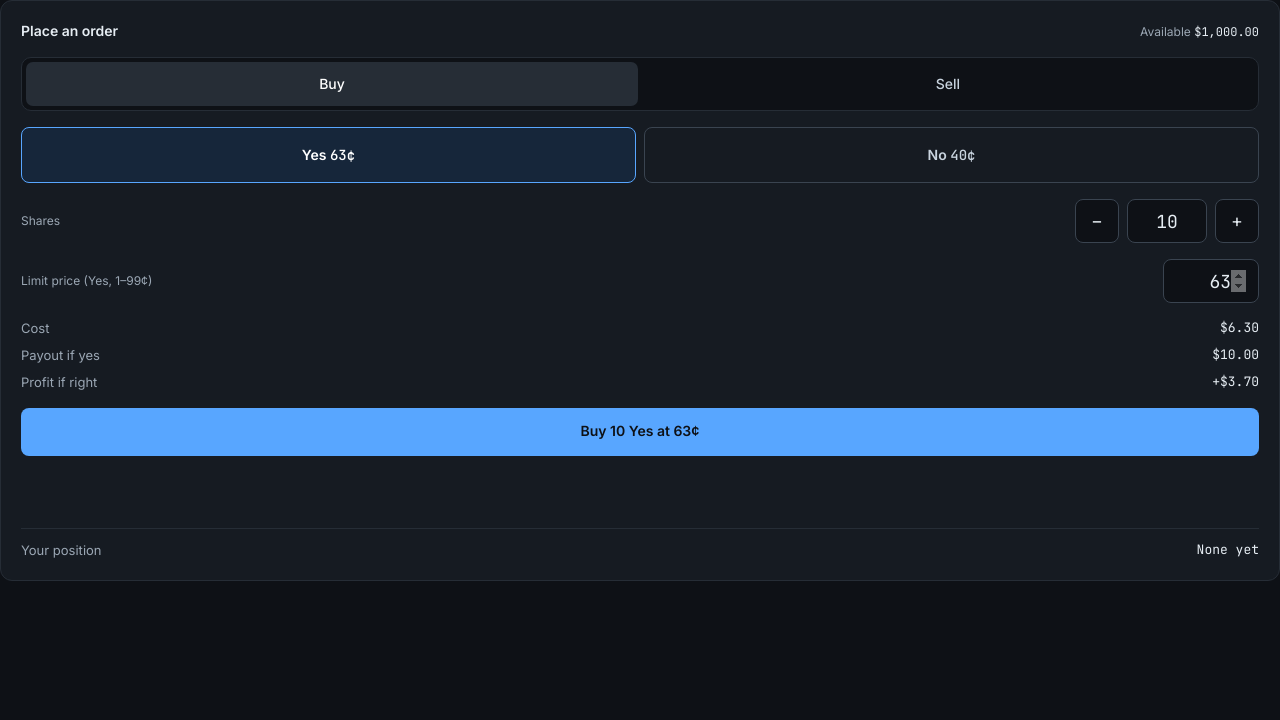
Scenario: OrderTicket › uses a new key for the next order but reuses it after a network failure
Later steps or results of the test are not shown.
Click the button with test id "ticket-submit" at (640, 432), box x1=21 y1=408 x2=1259 y2=456
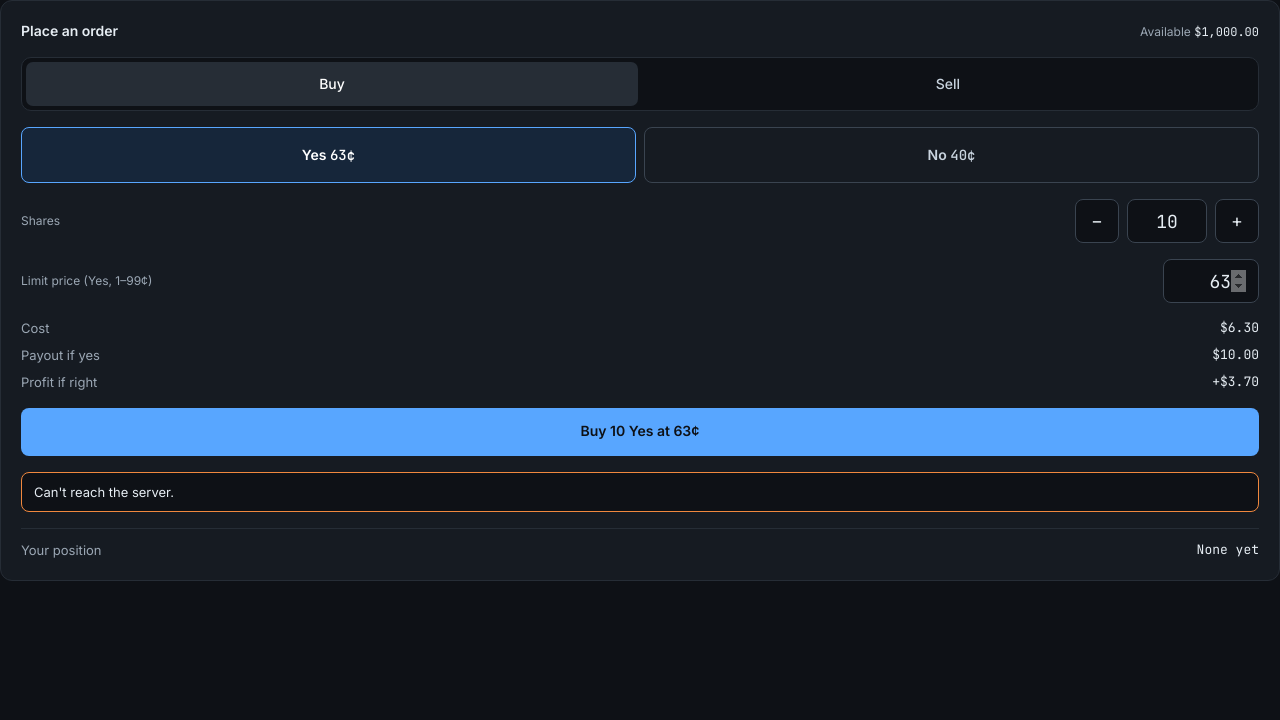
Expected: the message with test id "ticket-toast" reads "Can't reach the server.", x1=34 y1=484 x2=174 y2=500
Click the button with test id "ticket-submit" at (640, 432), box x1=21 y1=408 x2=1259 y2=456
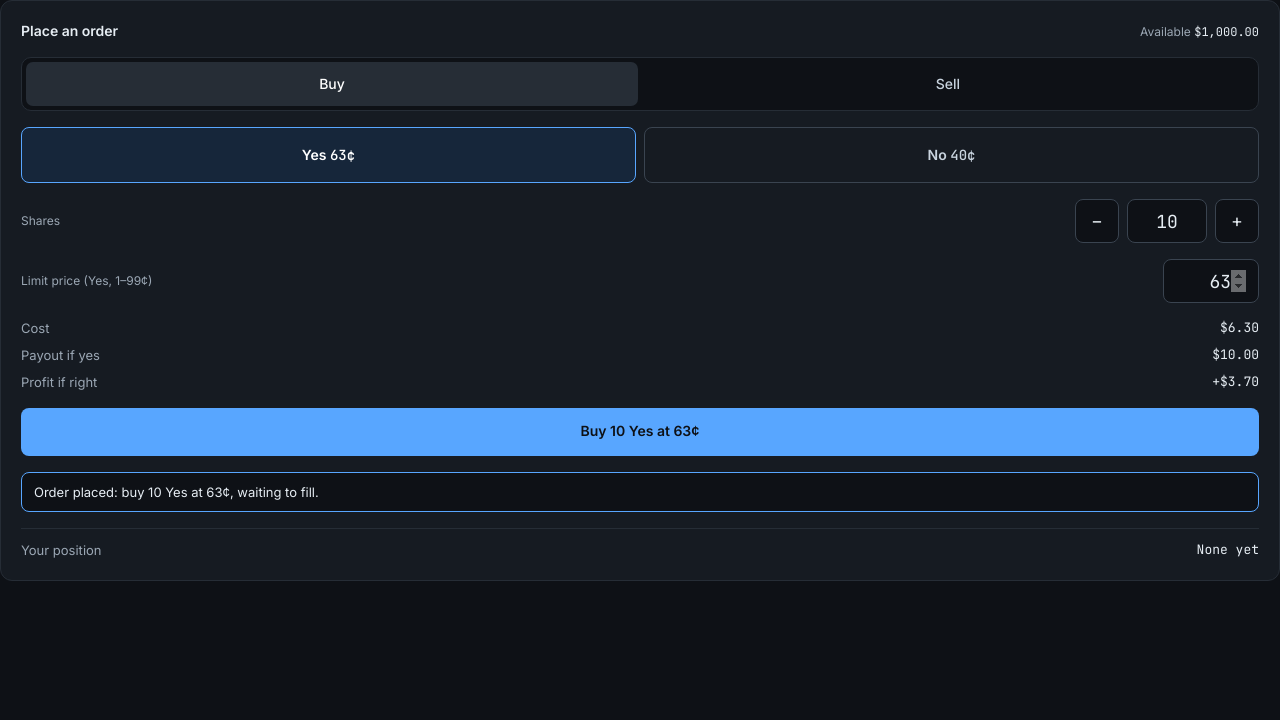
Expected: the message with test id "ticket-toast" shows "Order placed: buy 10 Yes at 63¢", x1=34 y1=484 x2=319 y2=500
